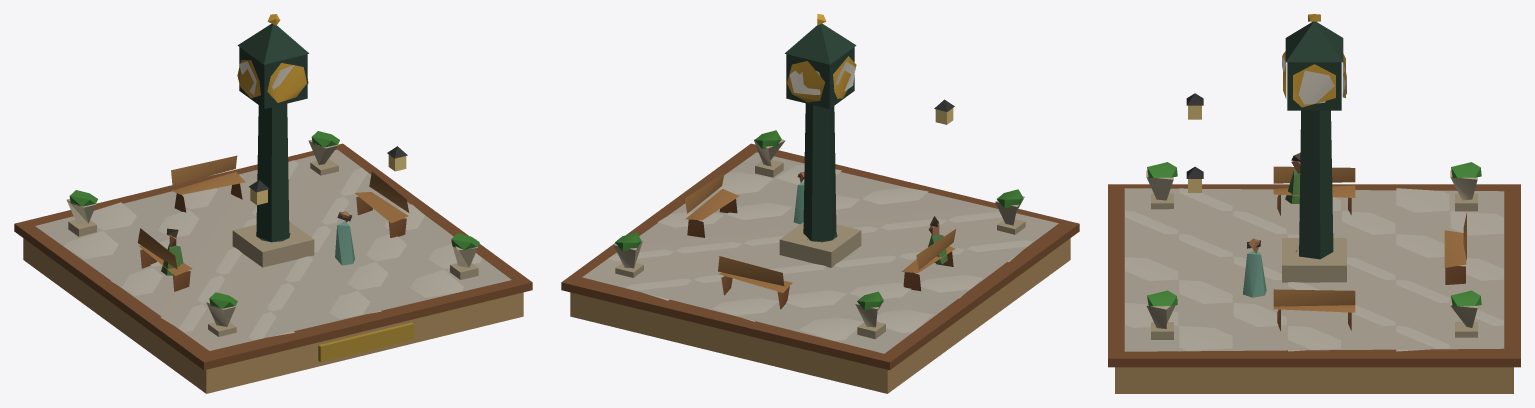
File: clock_square_souvenir.glb
The picture shows the model from 3 angles, left to right: view 1: azimuth 30°, elevation 25°; view 2: azimuth 150°, elevation 25°; view 3: azimuth 270°, elevation 25°; orthographic projection. The views are drawn at different scales.
Visible parts, largest first — view 1: decor-clock_square_souvenir; view 2: decor-clock_square_souvenir; view 3: decor-clock_square_souvenir.
Boxes of the visible parts, x1,y1,x2,y2 form: decor-clock_square_souvenir: (14, 14, 532, 393); decor-clock_square_souvenir: (561, 14, 1079, 393); decor-clock_square_souvenir: (1108, 14, 1520, 393).
Bounding box in the file's own units: 1.76 × 1.4 × 1.76.
